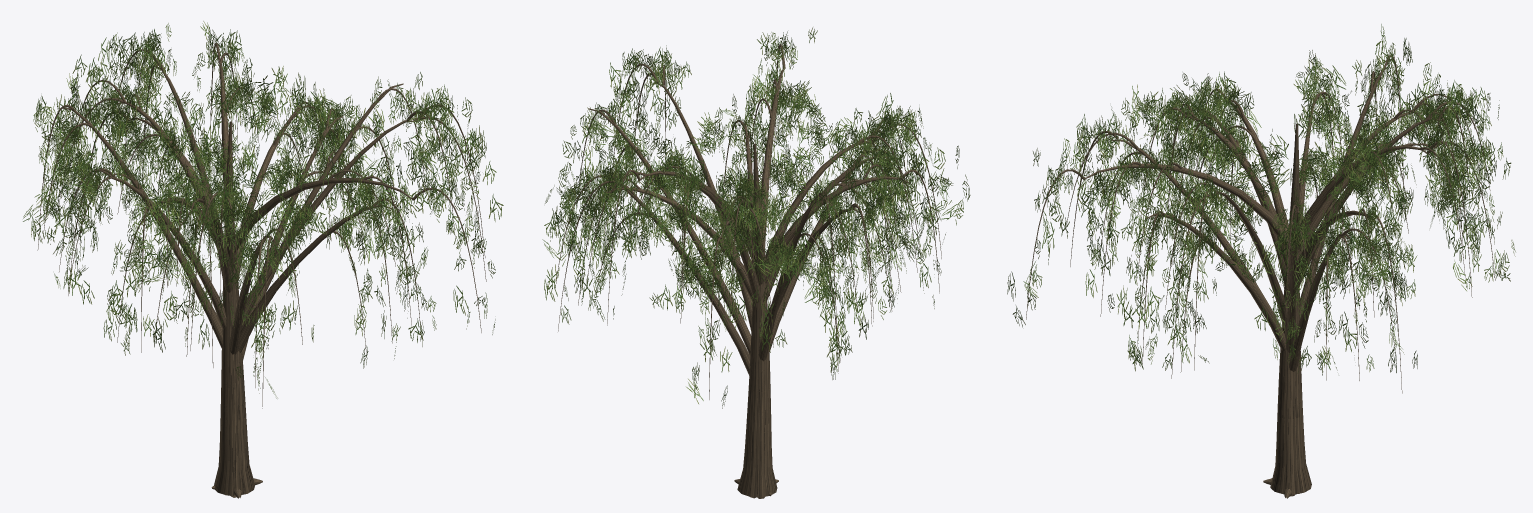
Rendered from weeping_willow_LOD1.glb.
3 views of the same model, side by side, from view 1: azimuth 30°, elevation 25°; view 2: azimuth 150°, elevation 25°; view 3: azimuth 270°, elevation 25° (orthographic). The views are drawn at different scales.
Parts seen in each view (by area): view 1: weeping_willow_foliage, weeping_willow_wood; view 2: weeping_willow_foliage, weeping_willow_wood; view 3: weeping_willow_foliage, weeping_willow_wood.
Part boxes in pixels (x1,y1,x2,y2): weeping_willow_foliage: (23,21,503,398); weeping_willow_wood: (37,43,486,498); weeping_willow_foliage: (542,27,970,408); weeping_willow_wood: (555,44,941,498); weeping_willow_foliage: (1007,24,1515,375); weeping_willow_wood: (1026,55,1495,498).
Bounding box in the file's own units: 14.61 × 13.79 × 15.52.
Materials: 2 (2 with a texture image).
